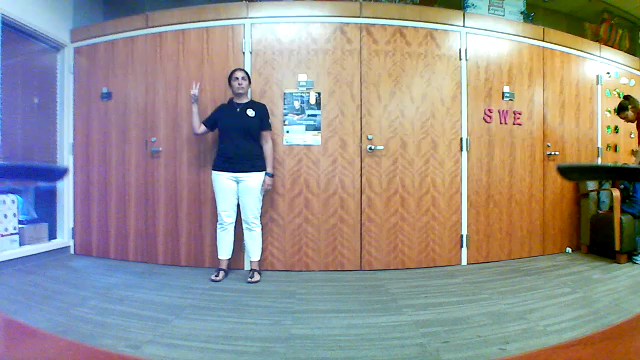peace: (183, 78, 207, 107)
